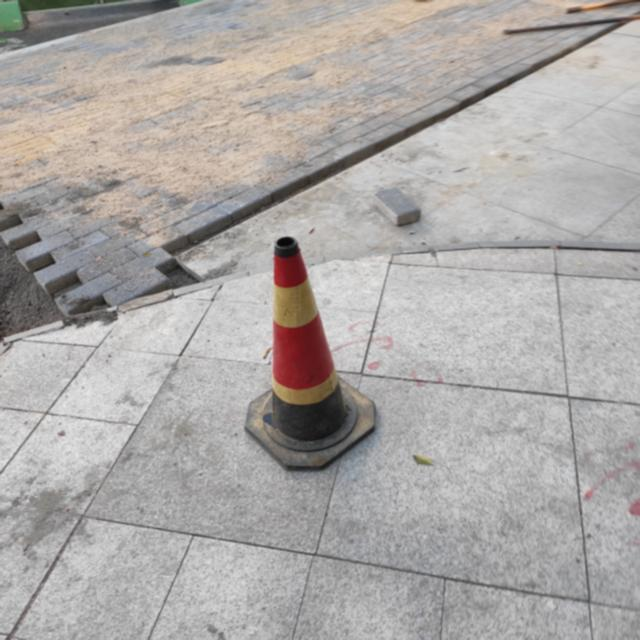reflective_cone: (245, 234, 378, 473)
